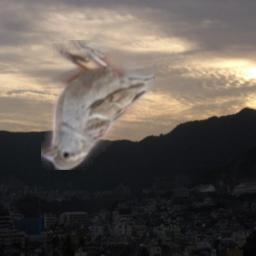Sparrow: (41, 40, 155, 170)
